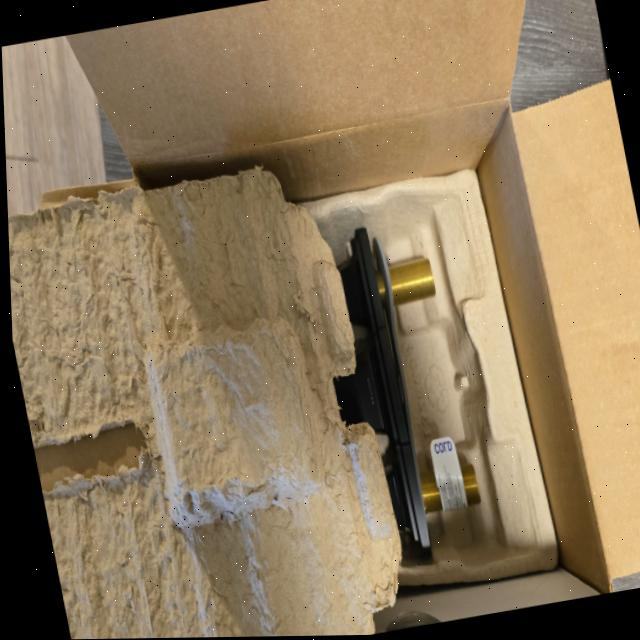9o: (334, 229, 480, 557)
